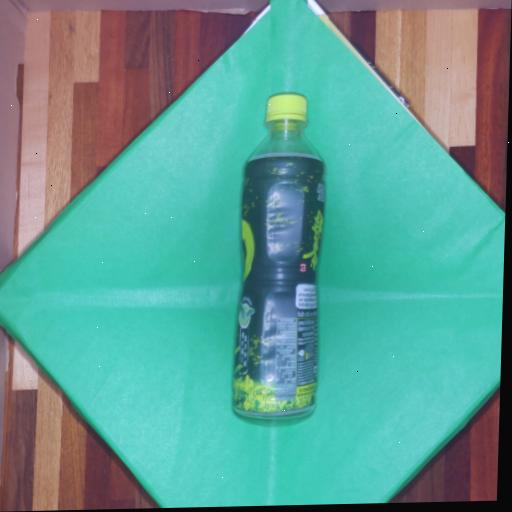bottle: (228, 95, 328, 423)
